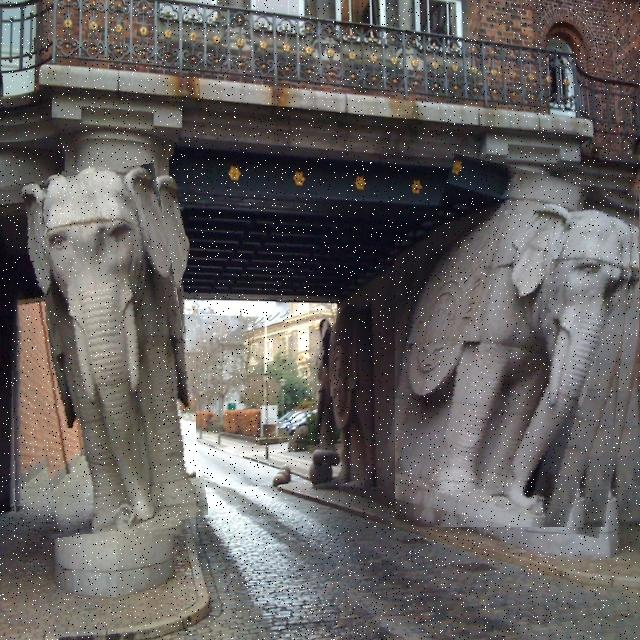elephant: (395, 163, 640, 527), (8, 168, 196, 534)
